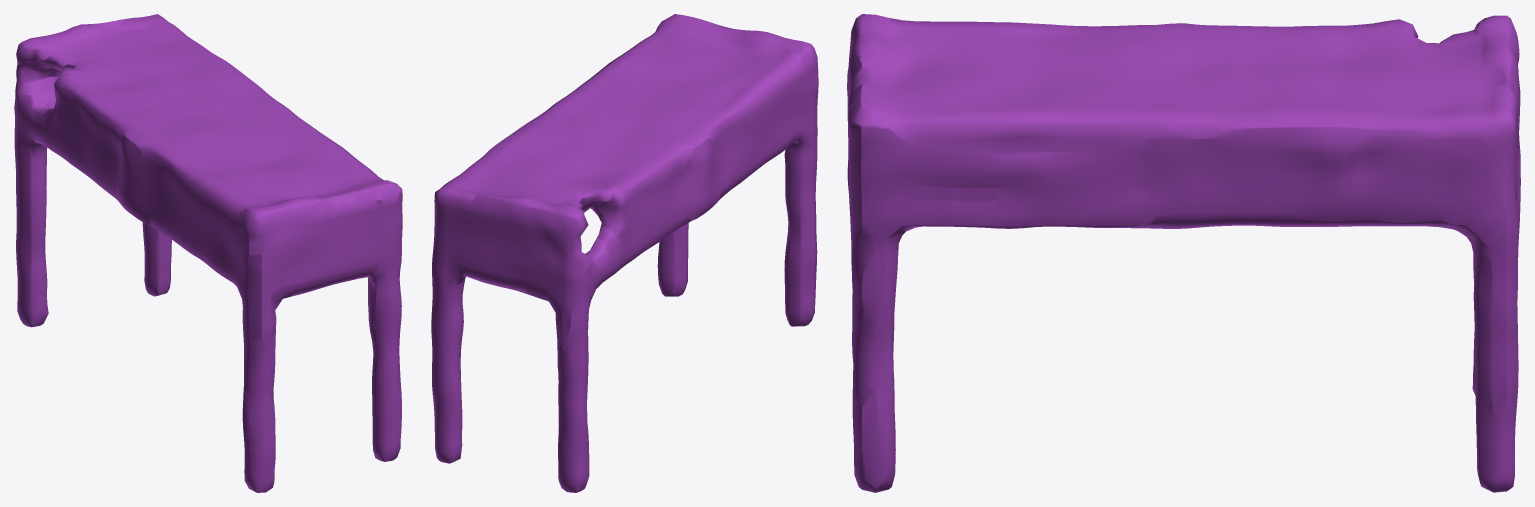
File: table_11_3.obj
3 views of the same model, side by side, from view 1: azimuth 30°, elevation 25°; view 2: azimuth 150°, elevation 25°; view 3: azimuth 270°, elevation 25° (orthographic). The views are drawn at different scales.
Size of the model in its own units: 0.3024 by 0.5016 by 0.7835.
